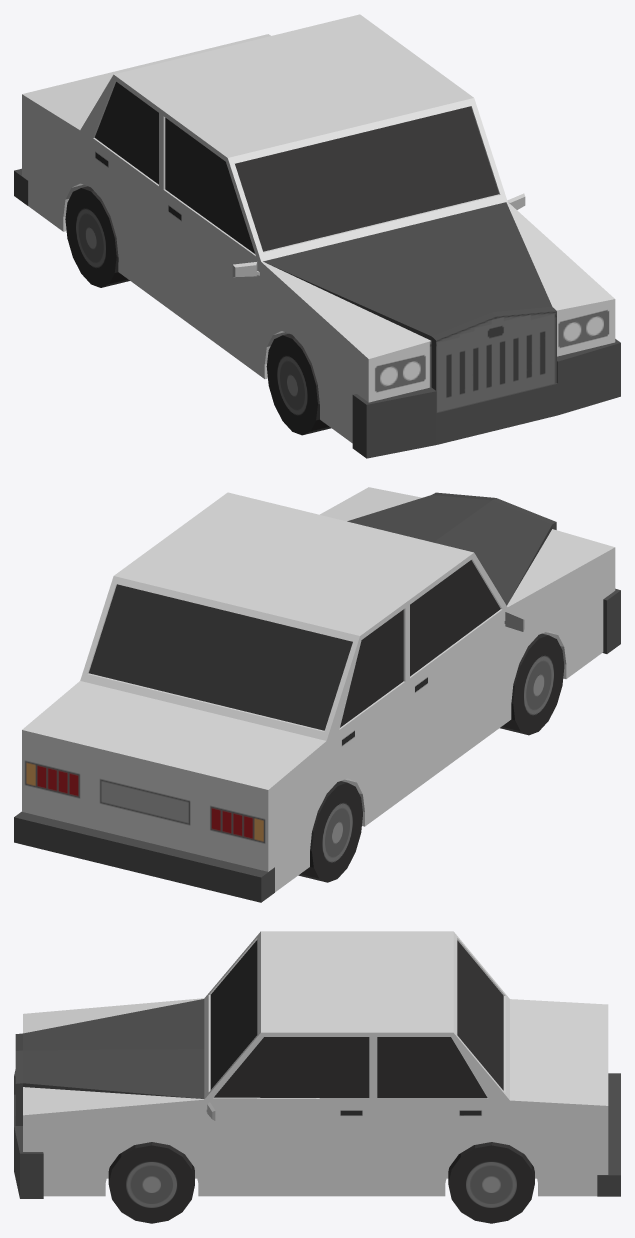
The model's file is vehicle-car-color01.glb.
3 views of the same model, one above another, from view 1: azimuth 30°, elevation 25°; view 2: azimuth 150°, elevation 25°; view 3: azimuth 270°, elevation 25° (orthographic). The views are drawn at different scales.
Parts seen in each view (by area): view 1: model; view 2: model; view 3: model.
Boxes of the visible parts, x1,y1,x2,y2 form: model: [14, 14, 620, 458]; model: [14, 487, 620, 902]; model: [14, 931, 620, 1223].
Bounding box in the file's own units: 2.96 × 2.2 × 6.32.
Materials: 1 (1 with a texture image).
